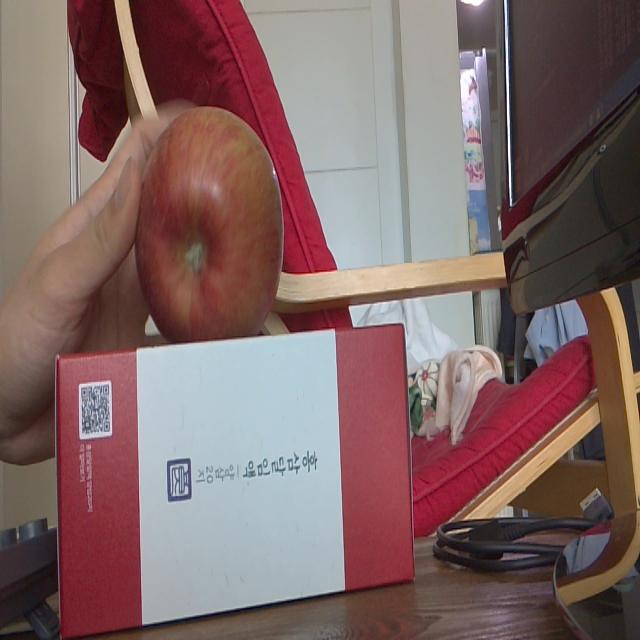apple: (136, 108, 284, 342)
